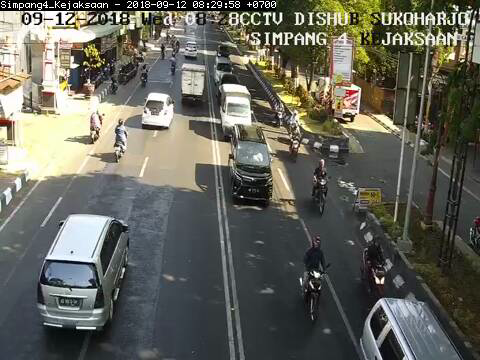motor: (301, 234, 330, 322), (358, 233, 391, 300), (310, 157, 332, 214), (288, 122, 304, 163), (274, 96, 285, 125)
